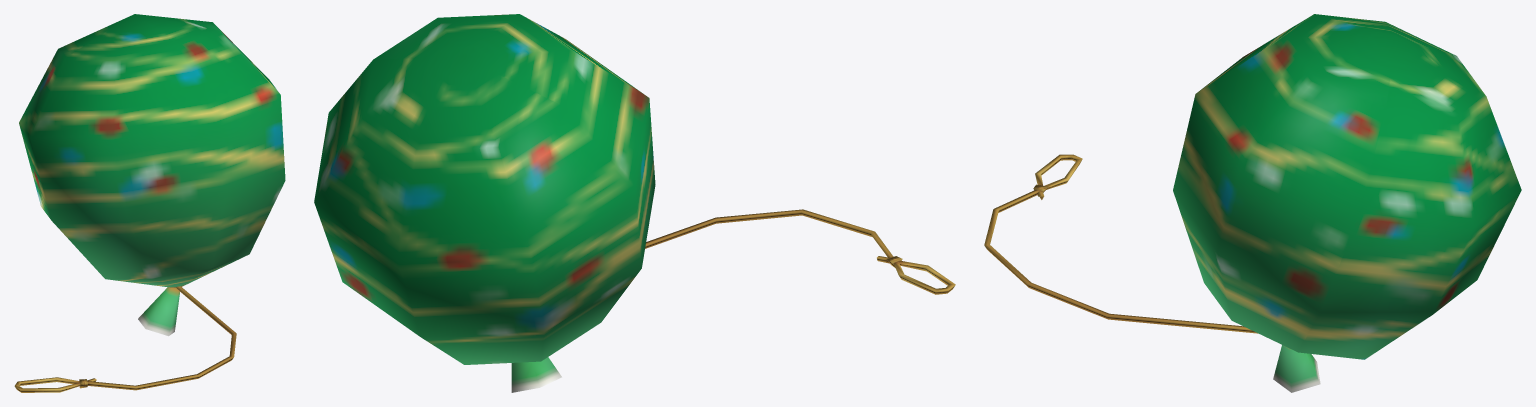
Rendered from jsf_WaterBalloon_05_c.fbx.
The picture shows the model from 3 angles, left to right: view 1: azimuth 30°, elevation 25°; view 2: azimuth 150°, elevation 25°; view 3: azimuth 270°, elevation 25°; orthographic projection. The views are drawn at different scales.
Parts seen in each view (by area): view 1: jsf_WaterBalloon_05_c; view 2: jsf_WaterBalloon_05_c; view 3: jsf_WaterBalloon_05_c.
Boxes of the visible parts, left/top/right/bottom form: jsf_WaterBalloon_05_c: left=14, top=14, right=285, bottom=392; jsf_WaterBalloon_05_c: left=314, top=14, right=955, bottom=392; jsf_WaterBalloon_05_c: left=984, top=14, right=1521, bottom=392.
Bounding box in the file's own units: 16.89 × 12.55 × 17.11.
